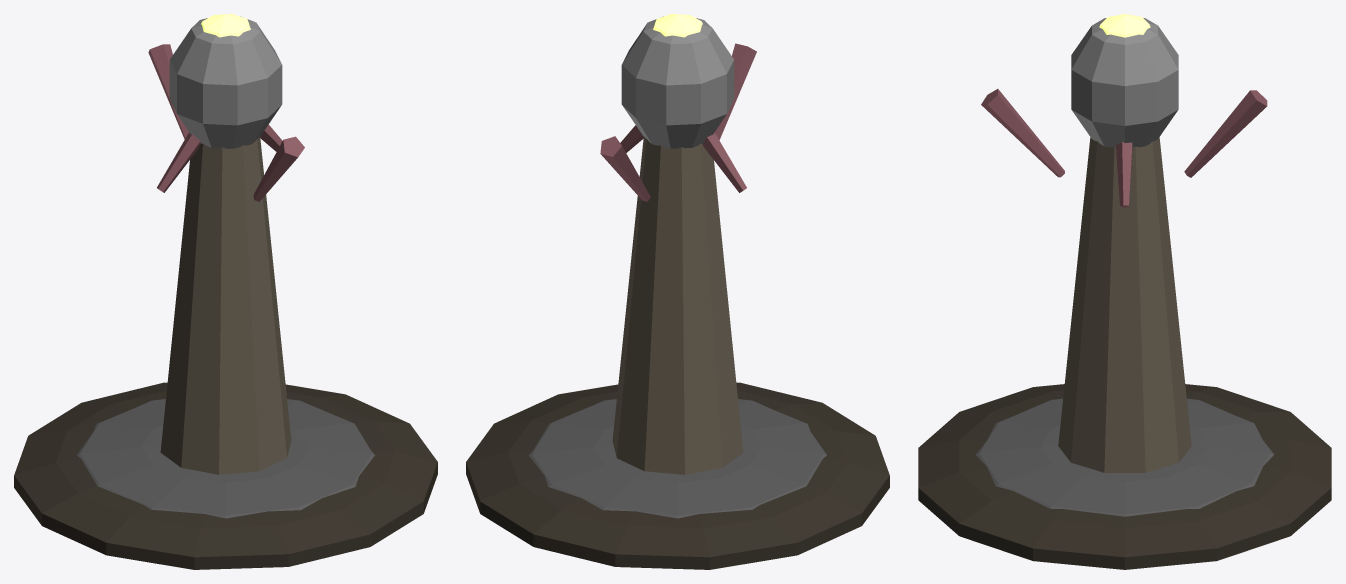
File: bl_spire.glb
The picture shows the model from 3 angles, left to right: view 1: azimuth 30°, elevation 25°; view 2: azimuth 150°, elevation 25°; view 3: azimuth 270°, elevation 25°; orthographic projection.
Parts seen in each view (by area): view 1: body; view 2: body; view 3: body.
Part boxes in pixels (x1=…): body: x1=14, y1=14, x2=437, y2=569; body: x1=466, y1=14, x2=889, y2=569; body: x1=918, y1=14, x2=1331, y2=569.
Bounding box in the file's own units: 27.45 × 34.83 × 26.77.
